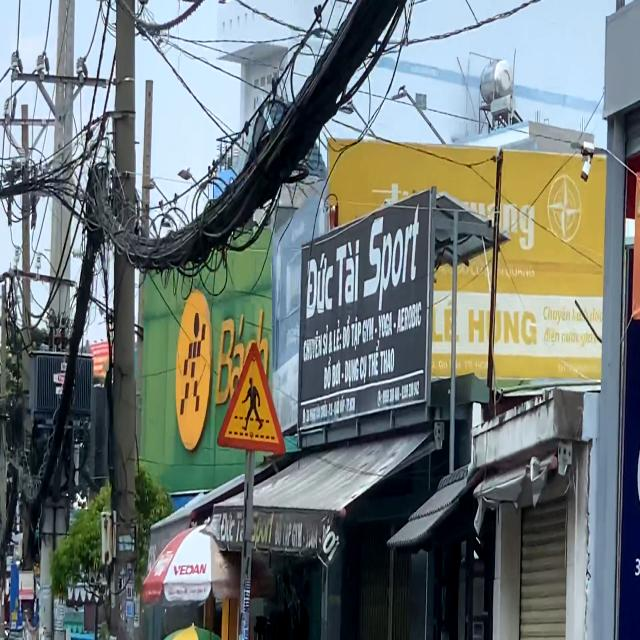W.224: (216, 341, 287, 457)
